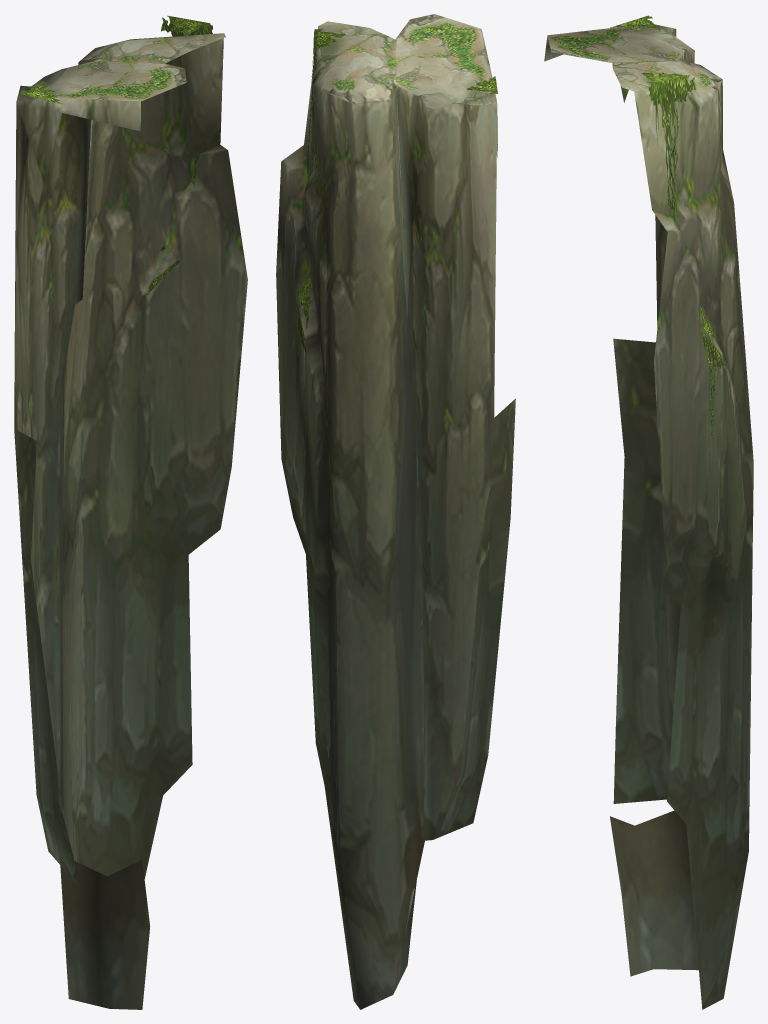
File: S_Rock_Green080_L1.FBX
3 renders of one model, left to right at view 1: azimuth 30°, elevation 25°; view 2: azimuth 150°, elevation 25°; view 3: azimuth 270°, elevation 25°, orthographic. The views are drawn at different scales.
Visible parts, largest first — view 1: S_Rock_Green080_L1; view 2: S_Rock_Green080_L1; view 3: S_Rock_Green080_L1.
Boxes of the visible parts, box(x1,y1,x2,y2) form: S_Rock_Green080_L1: box(14, 15, 247, 1009); S_Rock_Green080_L1: box(276, 14, 515, 1009); S_Rock_Green080_L1: box(544, 15, 753, 1009).
Size of the model in its own units: 3113 by 12564 by 2493.
